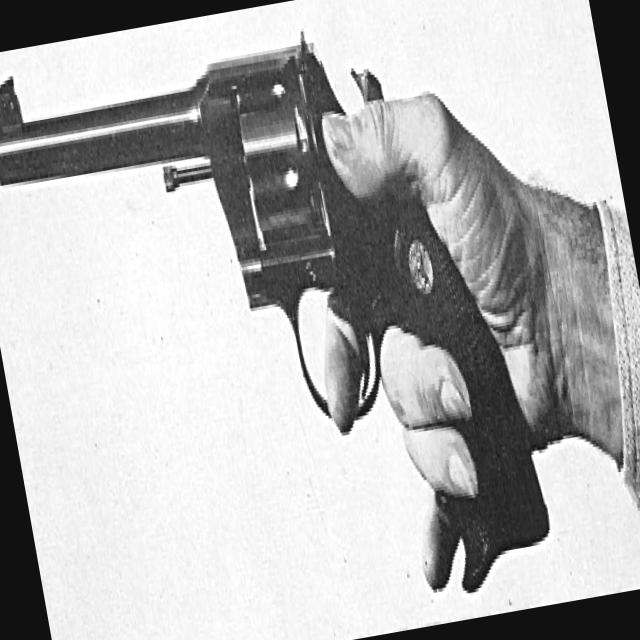handgun: (0, 0, 564, 638)
